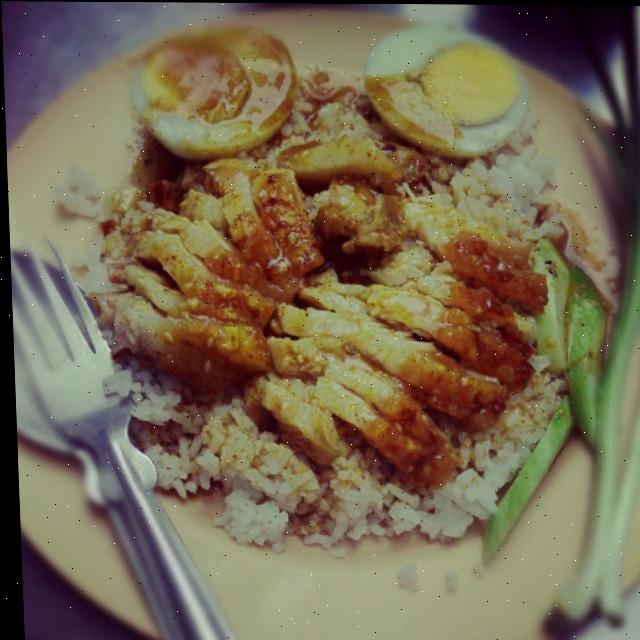猪肉菜式: (39, 9, 640, 576)
